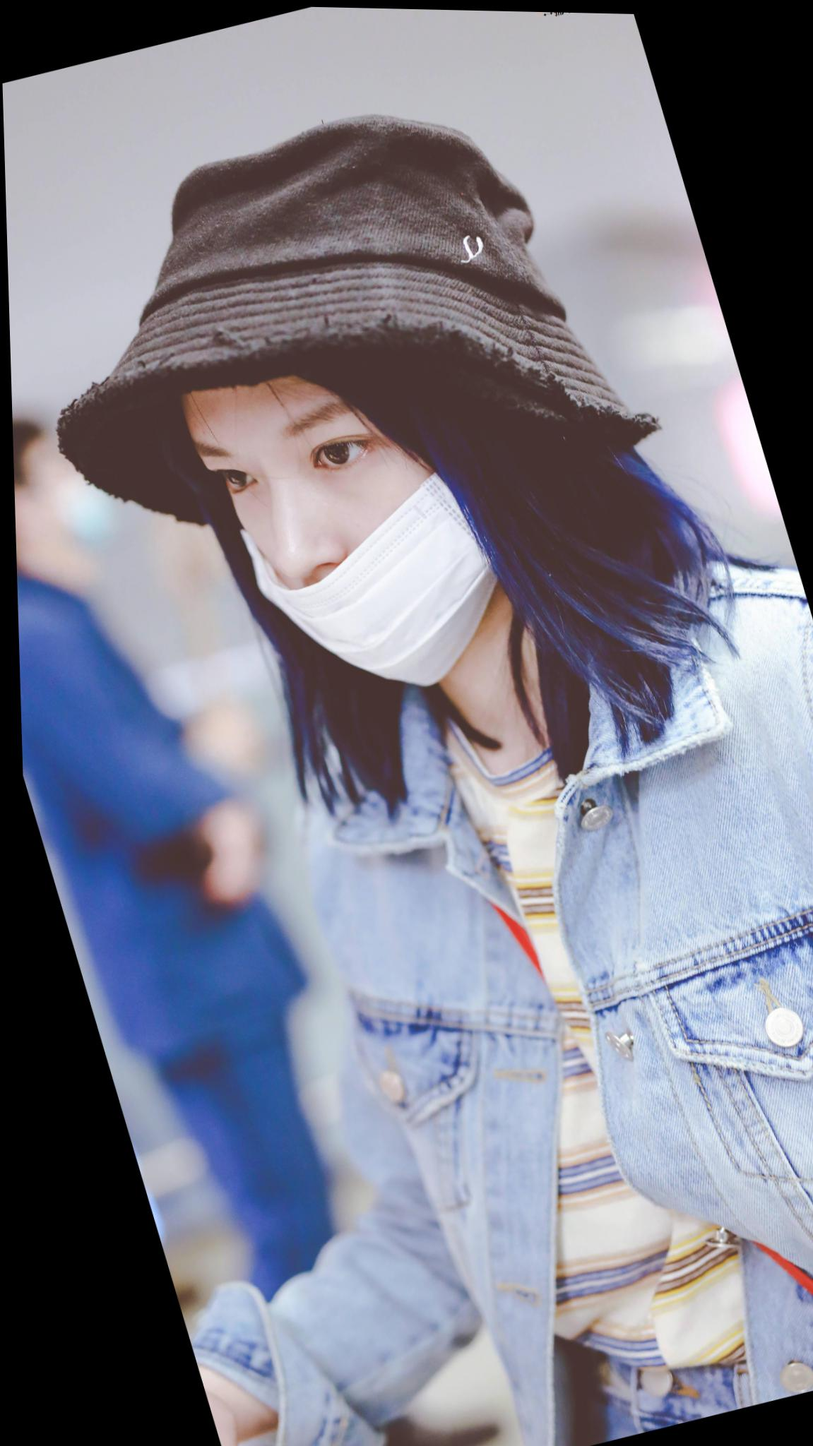OK: (27, 429, 124, 561)
WRONG: (175, 343, 516, 725)
